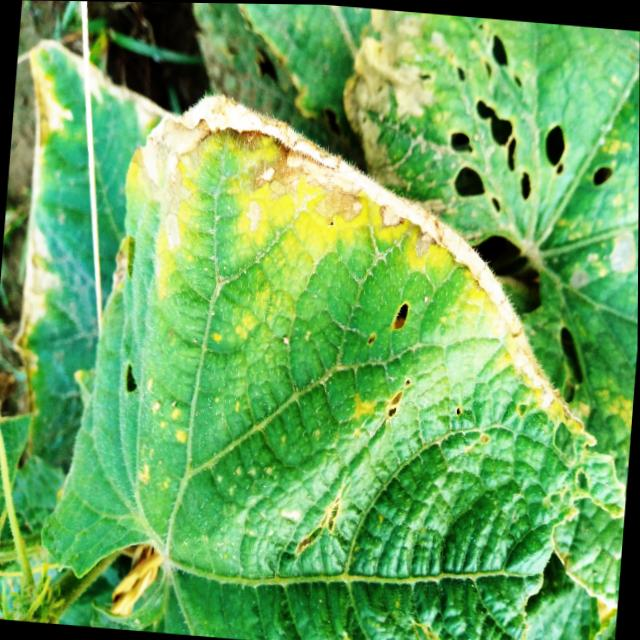Gummy-Stem-Blight: (133, 90, 590, 441)
